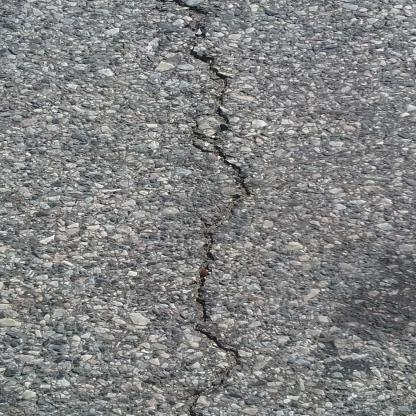Cracks: (52, 0, 250, 416)
